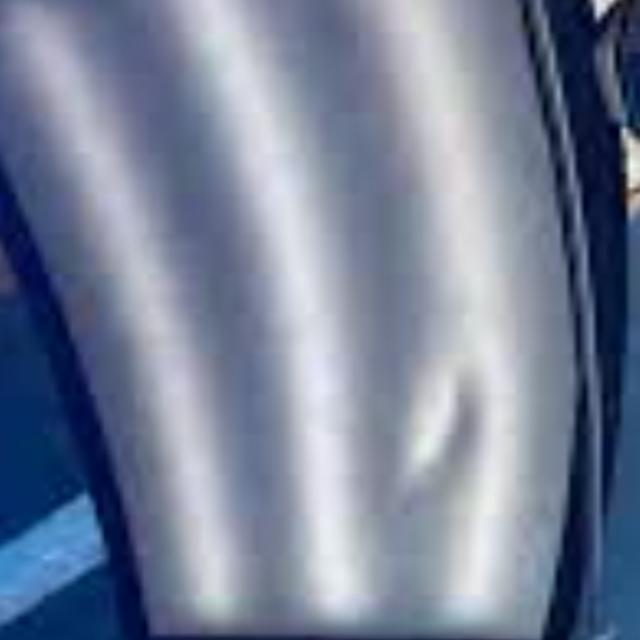dents: (349, 366, 520, 505)
